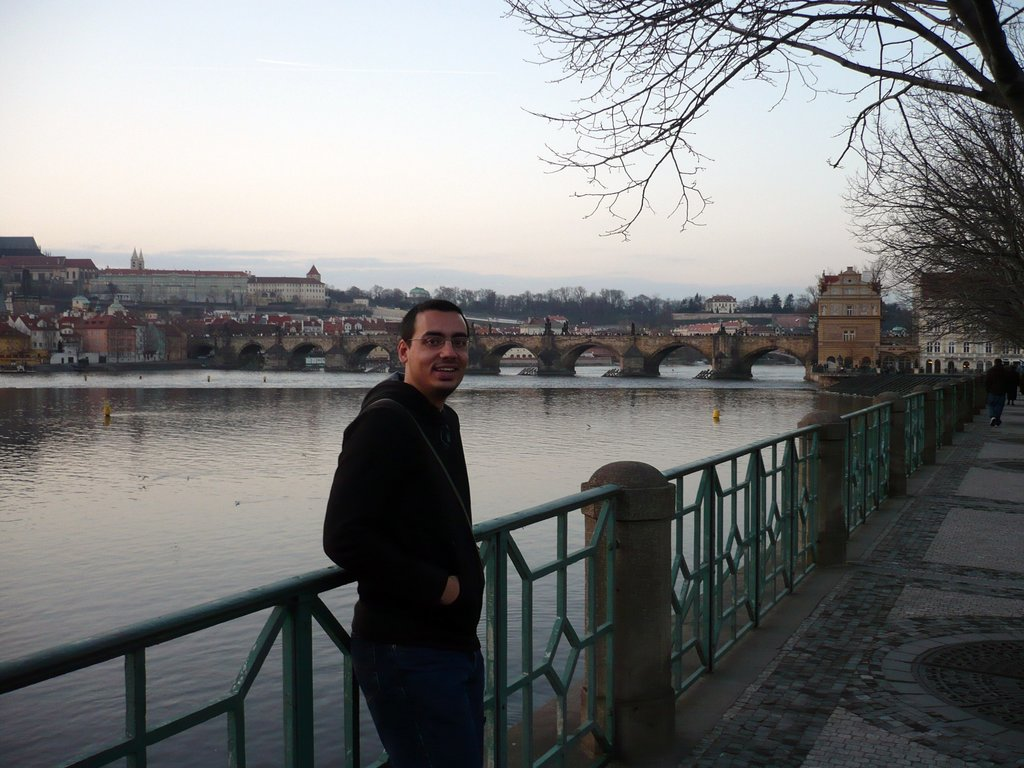Tree: (481, 0, 1023, 544)
